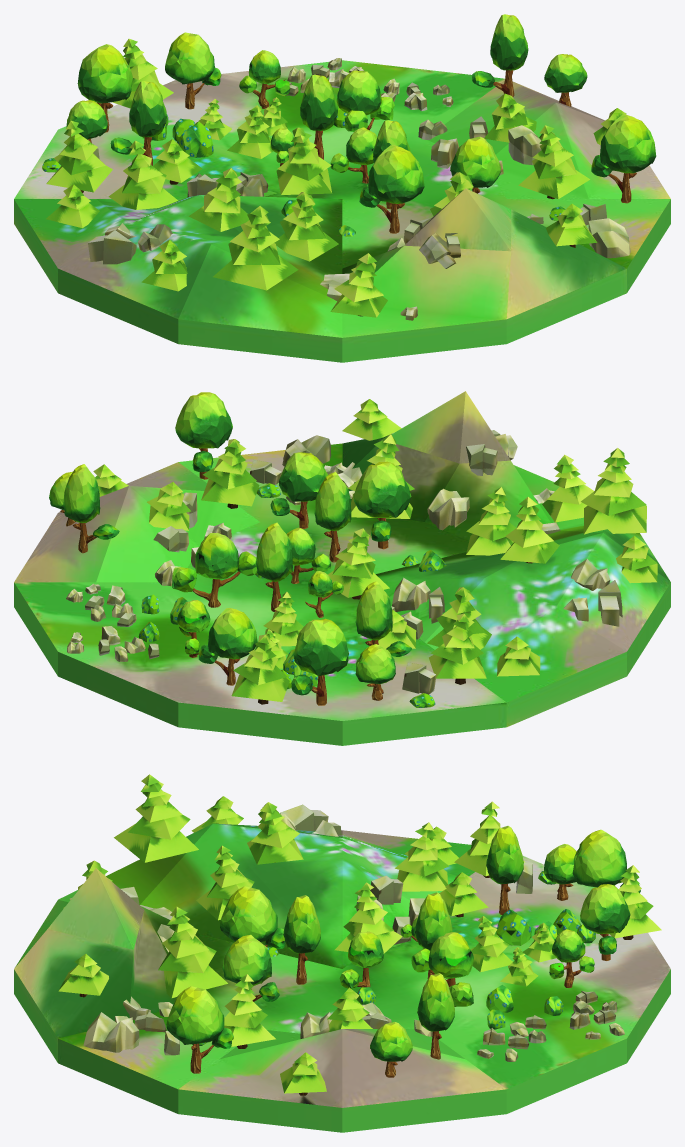
The model's file is forest.glb.
3 views of the same model, one above another, from view 1: azimuth 30°, elevation 25°; view 2: azimuth 150°, elevation 25°; view 3: azimuth 270°, elevation 25° (orthographic).
Visible parts, largest first — view 1: Cylinder004, Hedra024, Hedra008, Hedra039, Hedra037, Hedra006, Hedra027, Hedra035, Hedra020, Hedra010, Cone021, Box013 (+32 smaller); view 2: Cylinder004, Hedra024, Hedra008, Hedra039, Hedra037, Hedra006, Hedra023, Hedra020, Hedra035, Hedra027, Hedra010, Cone021 (+34 smaller); view 3: Cylinder004, Hedra024, Hedra039, Hedra008, Hedra037, Hedra006, Hedra020, Hedra023, Hedra027, Hedra010, Box013, Cone021 (+26 smaller).
Boxes of the visible parts, left/top/right/bottom form: Cylinder004: left=14, top=60, right=670, bottom=362; Hedra024: left=600, top=114, right=656, bottom=173; Hedra008: left=368, top=145, right=424, bottom=203; Hedra039: left=77, top=44, right=132, bottom=103; Hedra037: left=165, top=32, right=214, bottom=84; Hedra006: left=450, top=136, right=500, bottom=187; Hedra027: left=490, top=14, right=528, bottom=70; Hedra035: left=300, top=74, right=337, bottom=130; Hedra020: left=129, top=81, right=166, bottom=137; Hedra010: left=337, top=70, right=381, bottom=115; Cone021: left=213, top=255, right=298, bottom=290; Box013: left=588, top=218, right=630, bottom=258; Cylinder004: left=14, top=391, right=670, bottom=745; Hedra024: left=175, top=392, right=232, bottom=448; Hedra008: left=353, top=461, right=411, bottom=517; Hedra039: left=294, top=618, right=348, bottom=675; Hedra037: left=208, top=608, right=257, bottom=659; Hedra006: left=279, top=452, right=327, bottom=501; Hedra023: left=314, top=472, right=351, bottom=531; Hedra020: left=355, top=581, right=392, bottom=640; Hedra035: left=256, top=522, right=292, bottom=581; Hedra027: left=63, top=464, right=100, bottom=523; Hedra010: left=195, top=533, right=239, bottom=579; Cone021: left=583, top=505, right=646, bottom=534; Cylinder004: left=14, top=823, right=670, bottom=1132; Hedra024: left=166, top=986, right=224, bottom=1044; Hedra039: left=572, top=829, right=626, bottom=887; Hedra008: left=220, top=886, right=277, bottom=942; Hedra037: left=580, top=884, right=630, bottom=933; Hedra006: left=222, top=934, right=271, bottom=985; Hedra020: left=486, top=826, right=523, bottom=883; Hedra023: left=283, top=895, right=320, bottom=953; Hedra027: left=417, top=973, right=454, bottom=1031; Hedra010: left=428, top=932, right=473, bottom=978; Box013: left=83, top=1012, right=139, bottom=1052; Cone021: left=114, top=823, right=198, bottom=862.
Size of the model in its own units: 3328 by 740 by 3328.
1 material, 1 textured.
